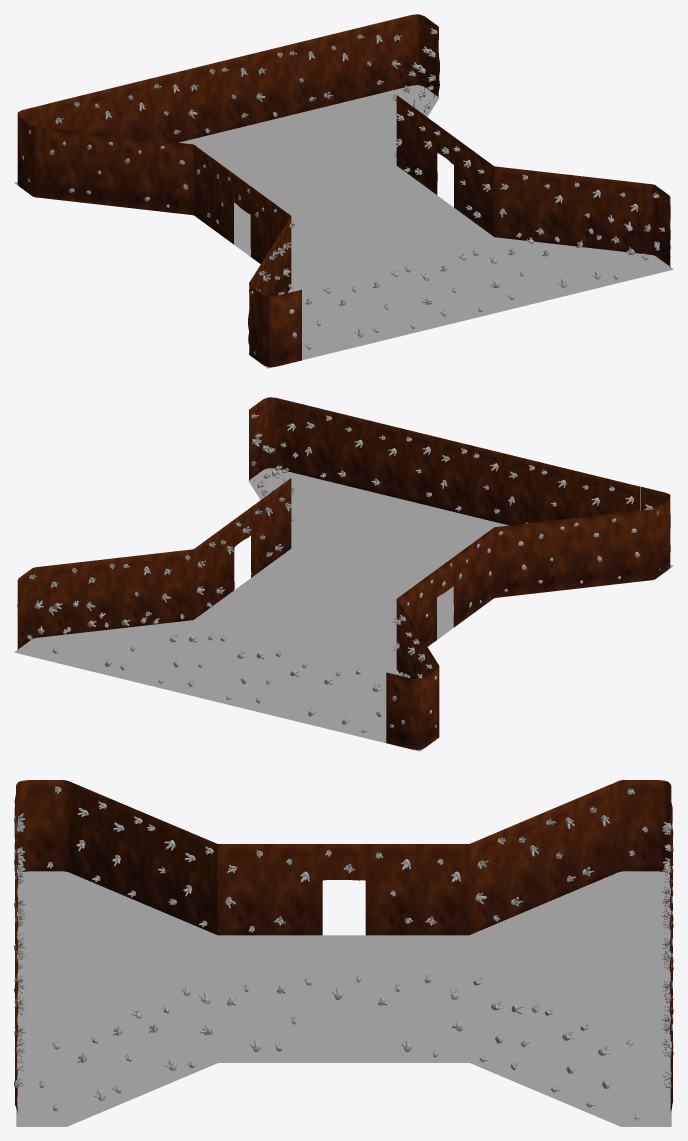
File: room_4.fbx
3 views of the same model, one above another, from view 1: azimuth 30°, elevation 25°; view 2: azimuth 150°, elevation 25°; view 3: azimuth 270°, elevation 25° (orthographic). The views are drawn at different scales.
Visible parts, largest first — view 1: room_4; view 2: room_4; view 3: room_4.
Part boxes in pixels (box(x1,y1,x2,y2)): room_4: box(14, 14, 673, 368); room_4: box(14, 397, 673, 751); room_4: box(14, 780, 673, 1126).
Bounding box in the file's own units: 1209 × 200 × 1310.
